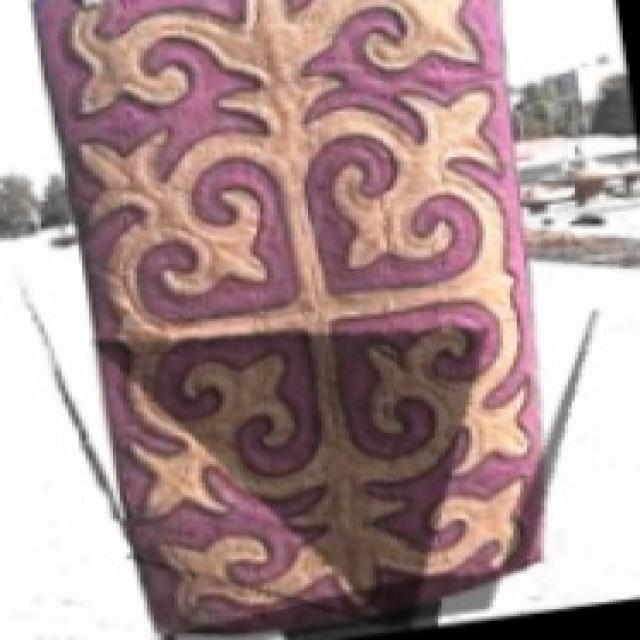Unity: (60, 80, 550, 545)
